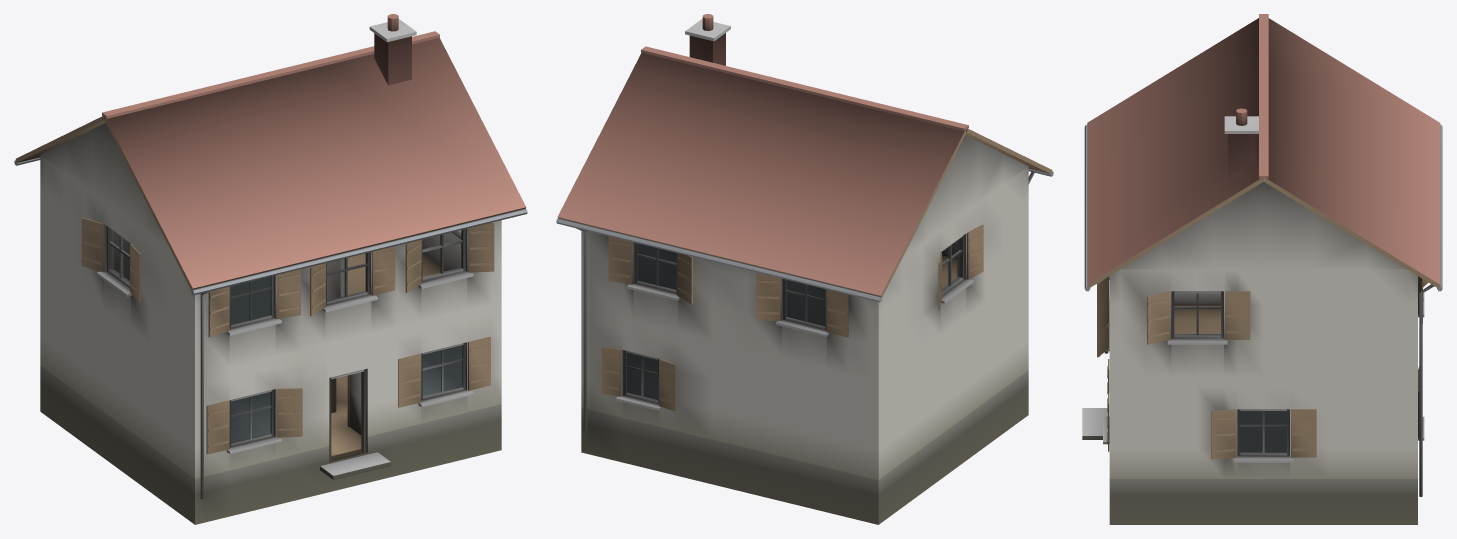
Rendered from house_b.glb.
3 renders of one model, left to right at view 1: azimuth 30°, elevation 25°; view 2: azimuth 150°, elevation 25°; view 3: azimuth 270°, elevation 25°, orthographic. The views are drawn at different scales.
Parts seen in each view (by area): view 1: house_b; view 2: house_b; view 3: house_b.
Boxes of the visible parts, left/top/right/bottom form: house_b: left=14, top=14, right=527, bottom=524; house_b: left=556, top=14, right=1053, bottom=524; house_b: left=1082, top=14, right=1442, bottom=524.
Bounding box in the file's own units: 8.7 × 9.86 × 8.19.
